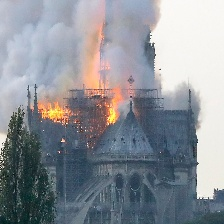fire: (94, 19, 108, 88), (35, 100, 71, 126), (97, 91, 121, 126)
smoke: (1, 1, 200, 116)
